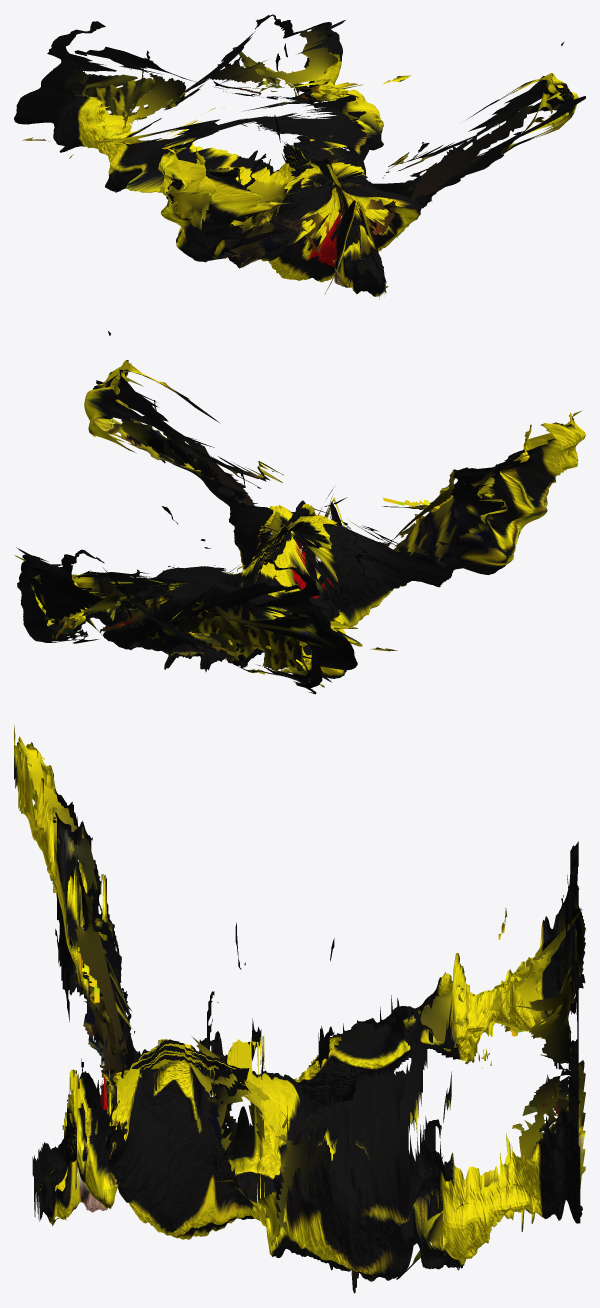
The model's file is detail_mesh.glb.
3 views of the same model, one above another, from view 1: azimuth 30°, elevation 25°; view 2: azimuth 150°, elevation 25°; view 3: azimuth 270°, elevation 25° (orthographic). The views are drawn at different scales.
Parts seen in each view (by area): view 1: ipn, fill; view 2: ipn, fill; view 3: ipn, fill.
Part boxes in pixels (x1,y1,x2,y2): ipn: (14,14,585,299); fill: (72,26,555,292); ipn: (14,331,585,694); fill: (28,384,573,683); ipn: (14,725,580,1293); fill: (18,736,585,1279).
Size of the model in its own units: 1.63 by 0.8116 by 1.17.
2 materials, 1 textured.
